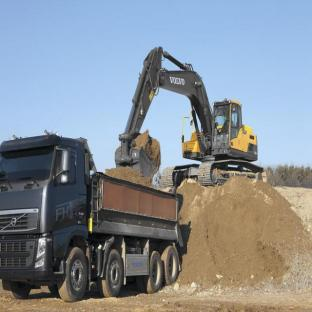ExcavationMachinery: (115, 34, 277, 186)
Vehicle: (0, 117, 186, 306)
